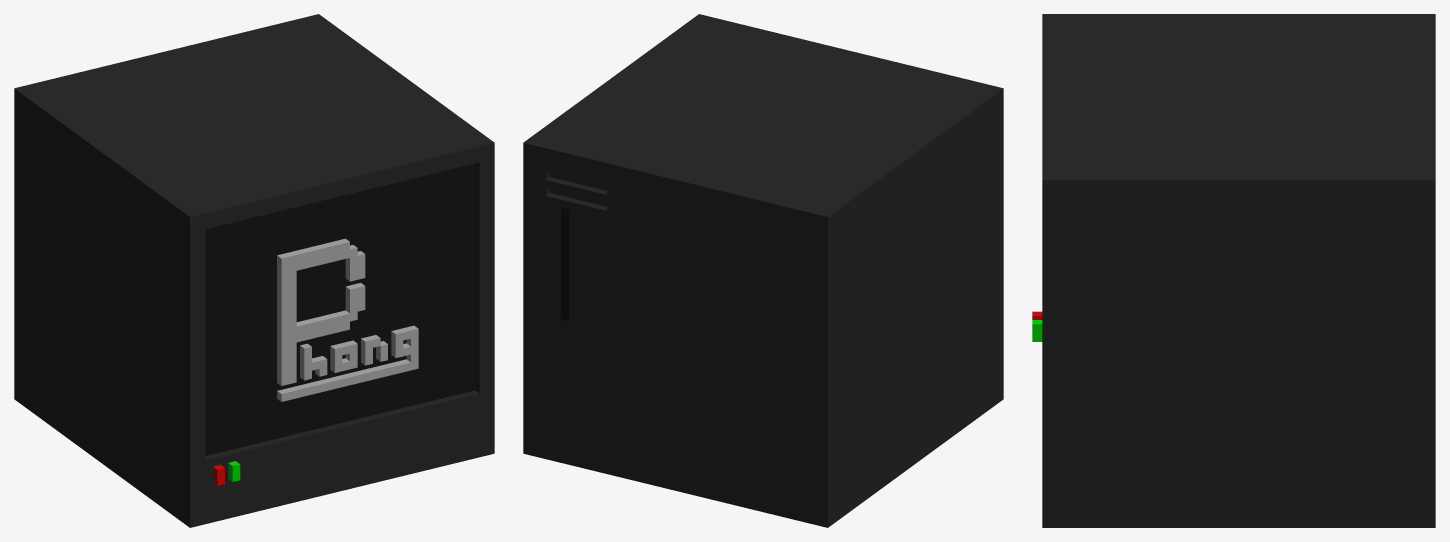
File: Phongs.gltf
3 views of the same model, side by side, from view 1: azimuth 30°, elevation 25°; view 2: azimuth 150°, elevation 25°; view 3: azimuth 270°, elevation 25° (orthographic). The views are drawn at different scales.
Visible parts, largest first — view 1: Layer.1; view 2: Layer.1; view 3: Layer.1.
Boxes of the visible parts, x1,y1,x2,y2 form: Layer.1: [14, 14, 494, 527]; Layer.1: [523, 14, 1003, 527]; Layer.1: [1032, 14, 1435, 527].
Size of the model in its own units: 40 by 39 by 41.
1 material, 1 textured.
